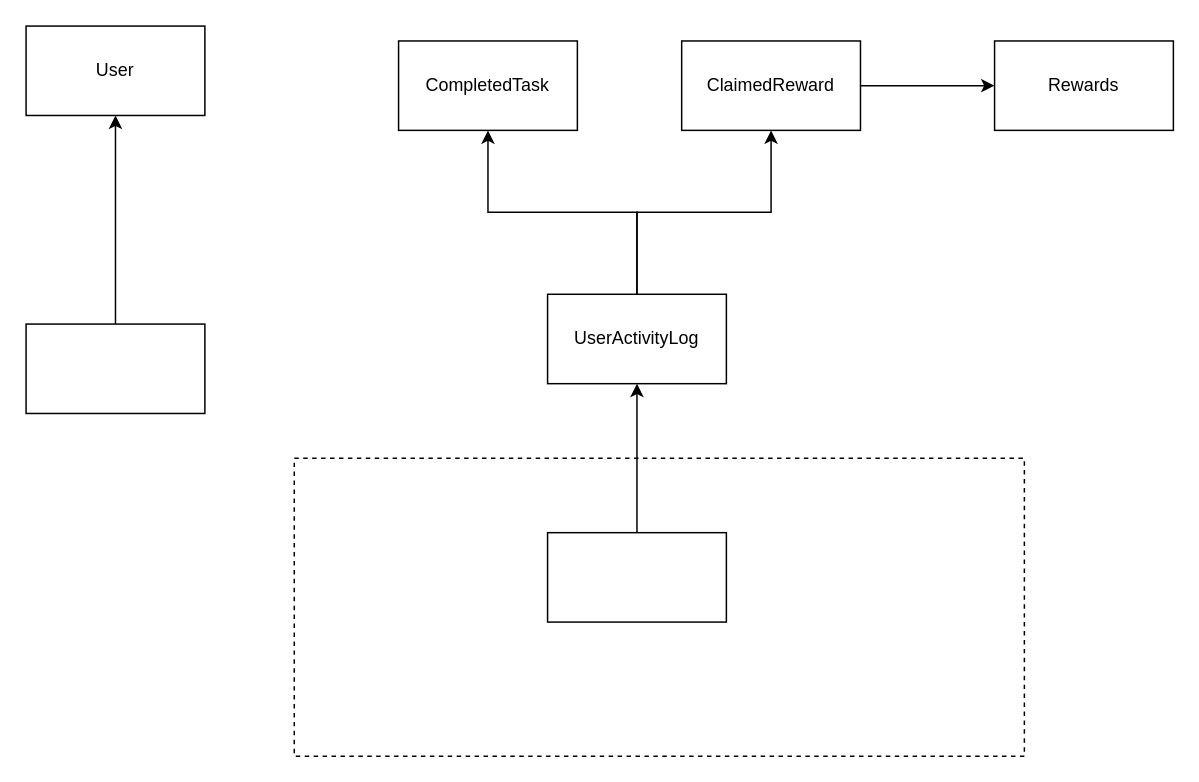
Image size: 1199x782. Some labels were removed from this diagram. Each missing label, with the centre of its shape:
UserConfiguration - TodoistApiKey: the point at 115,368
UserStats - Exp - Gold: the point at 636,576
